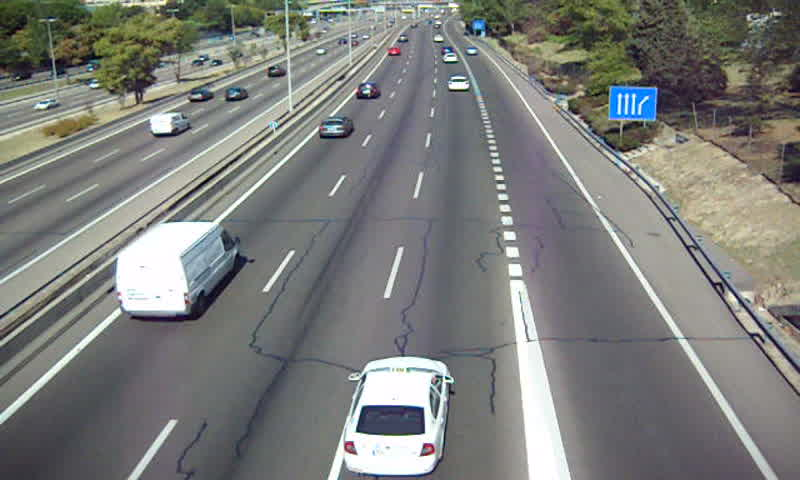car: (343, 357, 448, 473), (318, 117, 354, 138), (355, 82, 380, 101), (446, 75, 471, 92)
van: (117, 222, 240, 319)
